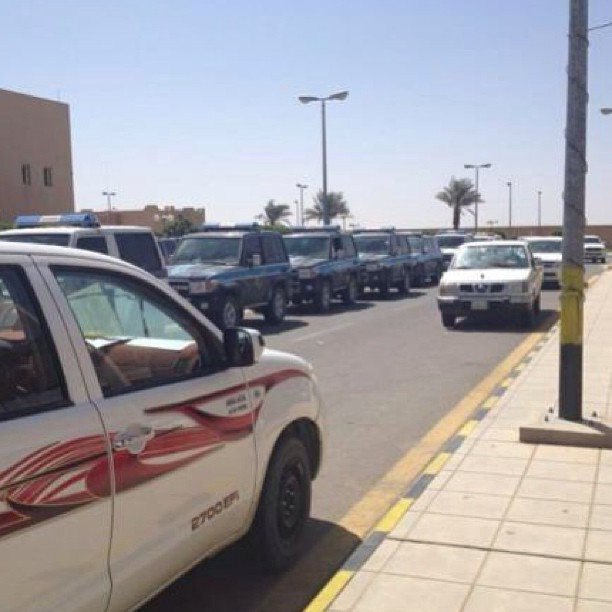car: (1, 254, 330, 612), (437, 234, 552, 338)
light pole: (295, 84, 352, 237), (457, 152, 501, 229)
sky: (72, 1, 603, 209)
street: (87, 284, 555, 612)
tree: (435, 174, 478, 233), (306, 186, 353, 231)
